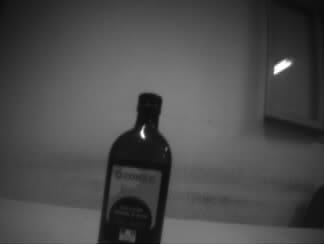Bottle: (97, 92, 175, 244)
